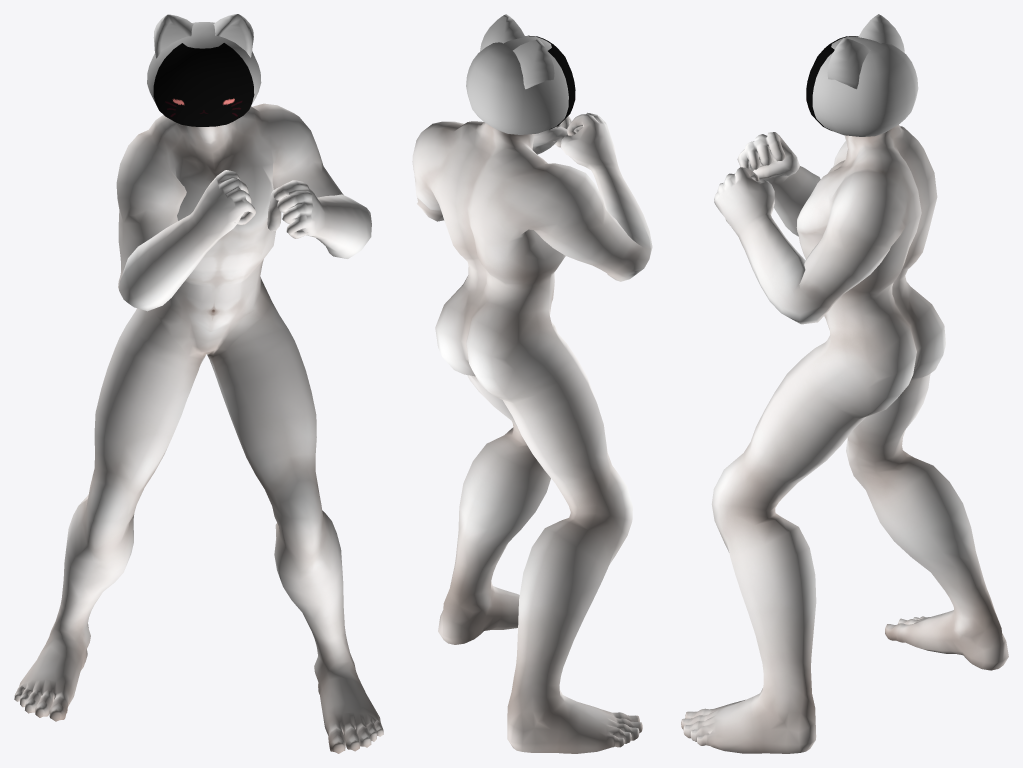
3 renders of one model, left to right at view 1: azimuth 30°, elevation 25°; view 2: azimuth 150°, elevation 25°; view 3: azimuth 270°, elevation 25°, orthographic. The views are drawn at different scales.
Visible parts, largest first — view 1: Muscle_Body, ______?001, Cat_Head; view 2: Muscle_Body, Cat_Head, ______?001; view 3: Muscle_Body, Cat_Head, ______?001.
Part boxes in pixels (x1=…): Muscle_Body: x1=14, y1=103, x2=383, y2=753; ______?001: x1=153, y1=43, x2=254, y2=126; Cat_Head: x1=147, y1=14, x2=261, y2=105; Muscle_Body: x1=412, y1=112, x2=652, y2=753; Cat_Head: x1=466, y1=14, x2=568, y2=134; ______?001: x1=528, y1=35, x2=575, y2=129; Muscle_Body: x1=681, y1=124, x2=1008, y2=753; Cat_Head: x1=812, y1=14, x2=918, y2=136; ______?001: x1=806, y1=36, x2=856, y2=130.
Size of the model in its own units: 11.97 by 27.65 by 12.14.
